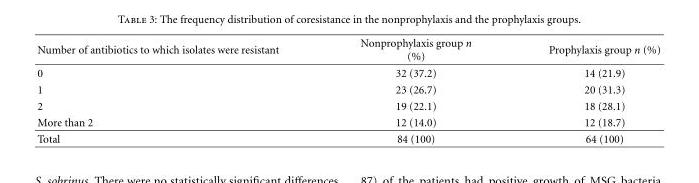table: (36, 36, 659, 144)
table column: (36, 36, 318, 144), (318, 36, 509, 144), (509, 36, 659, 144)
table column header: (36, 36, 659, 64)
table row: (36, 36, 659, 64), (36, 64, 659, 81), (36, 113, 659, 130), (36, 81, 659, 97), (36, 97, 659, 113), (36, 130, 659, 144)
